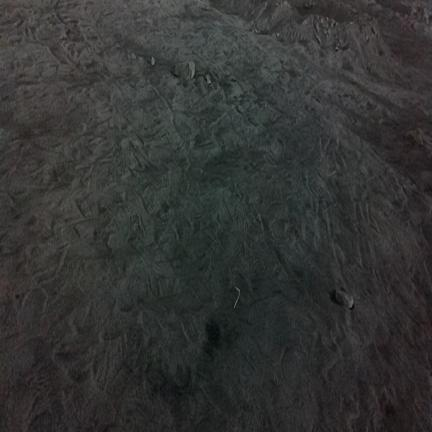Rock: (172, 61, 195, 79), (405, 128, 422, 145), (336, 291, 353, 308), (304, 0, 314, 8), (315, 34, 321, 44), (206, 75, 211, 84), (151, 57, 154, 65), (335, 47, 339, 51)
